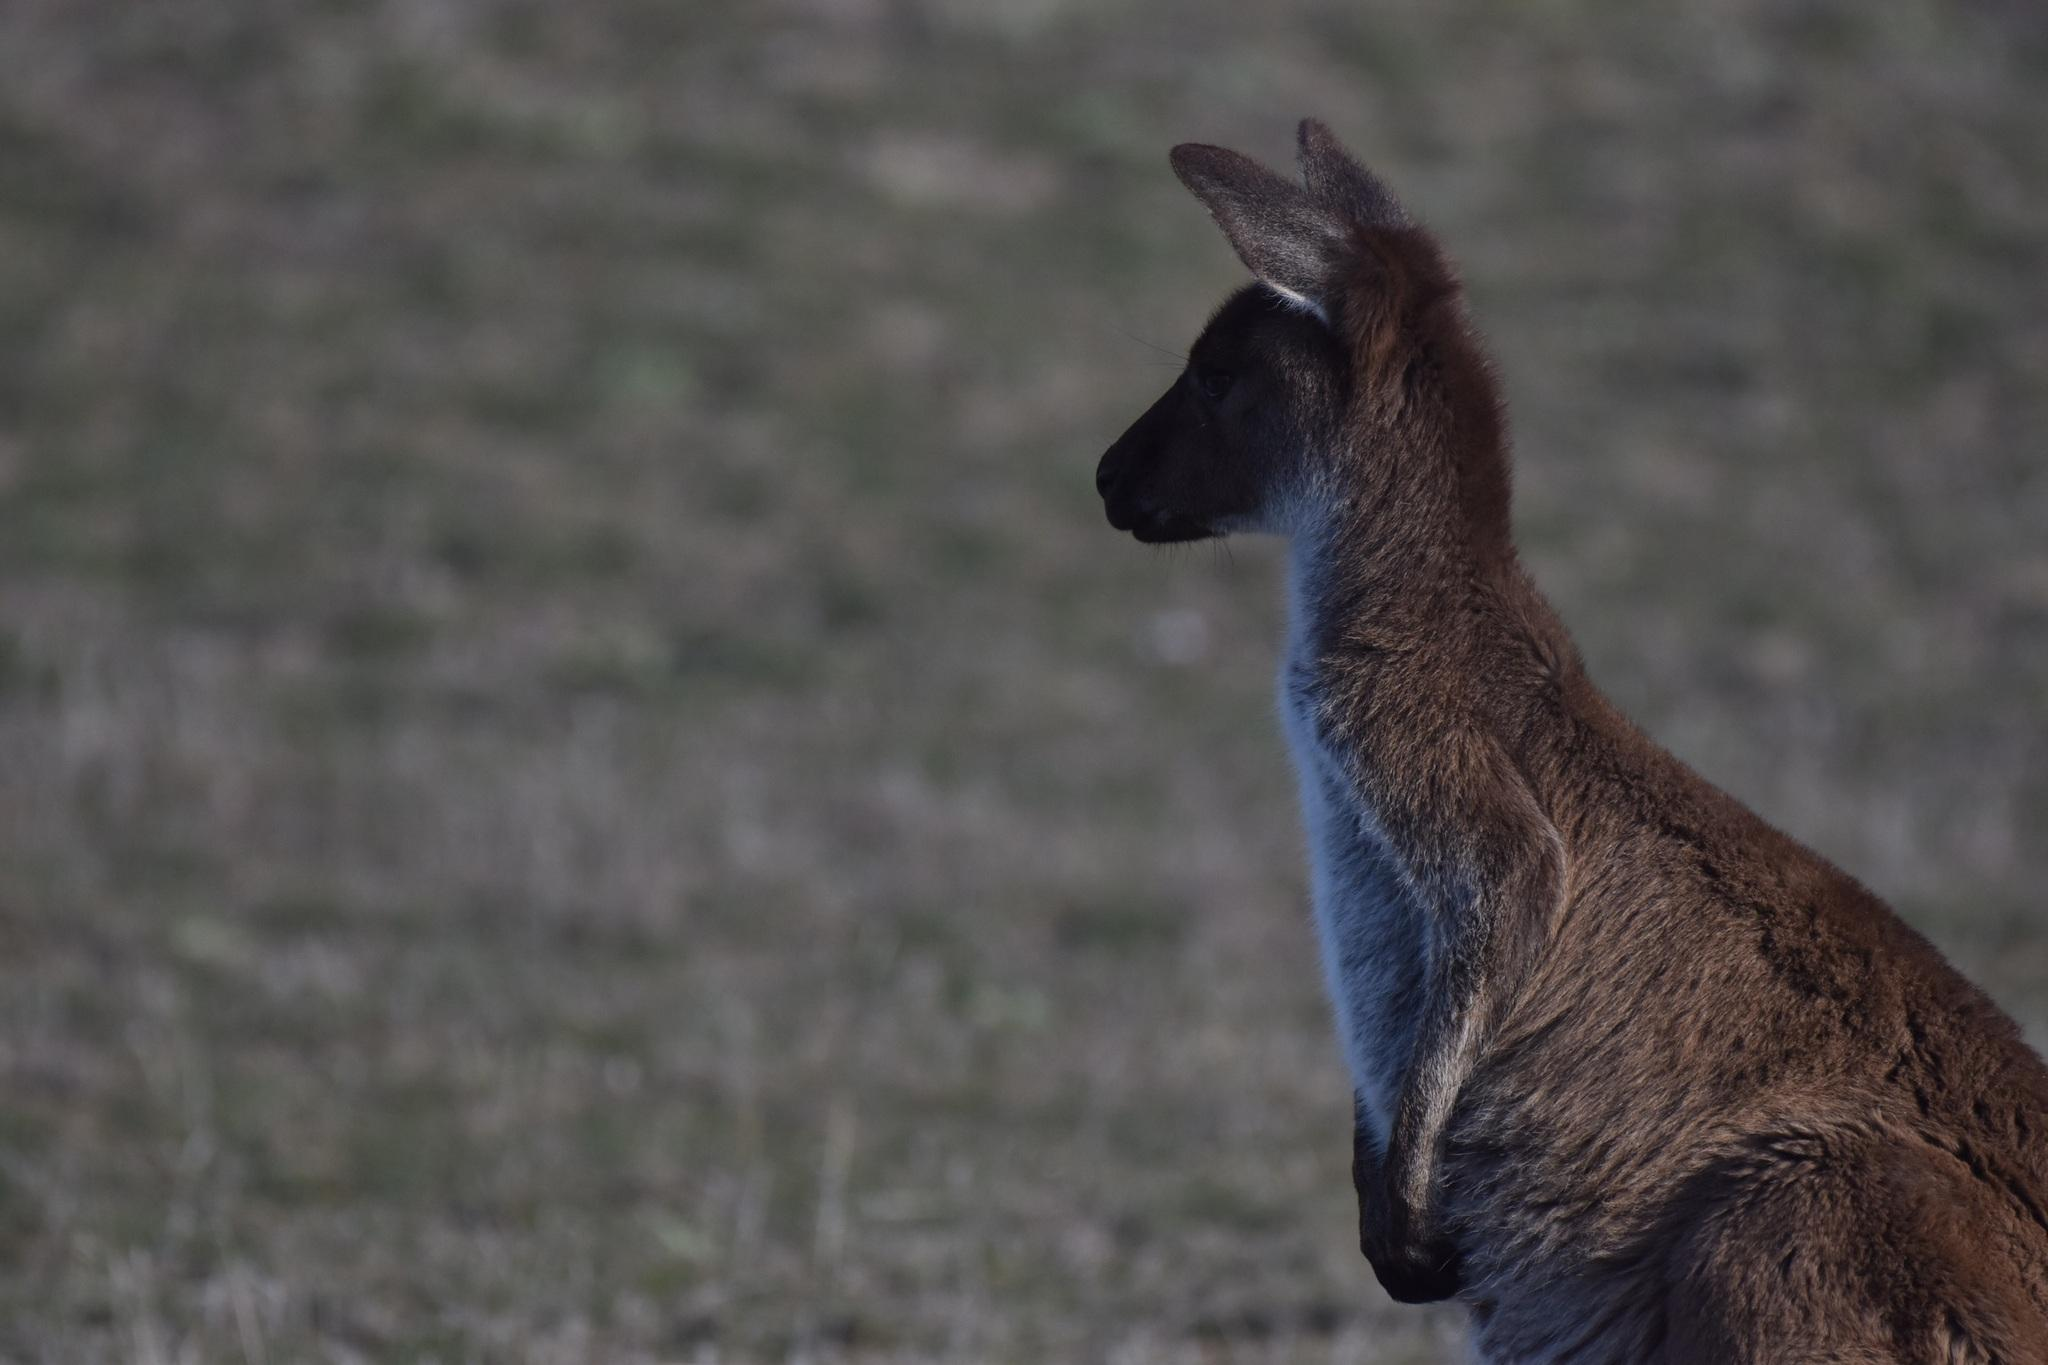Western grey kangaroo: (1066, 134, 2034, 1365)
